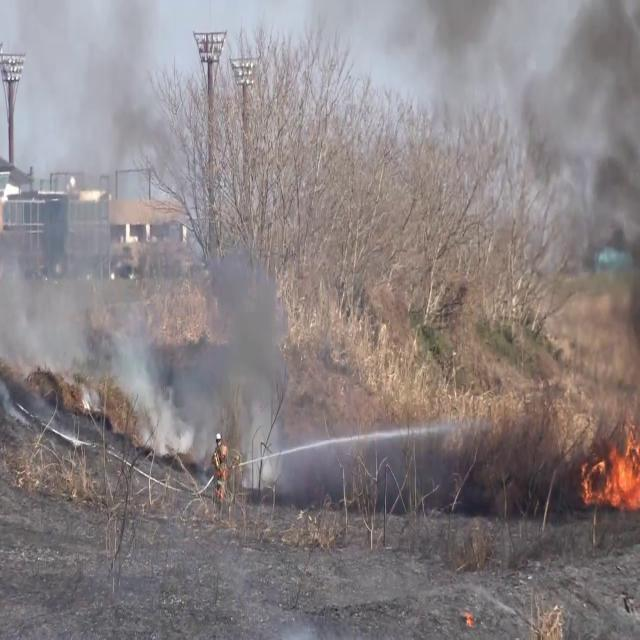Fire: (582, 412, 640, 516)
Smoke: (5, 9, 292, 472), (493, 0, 640, 418)
